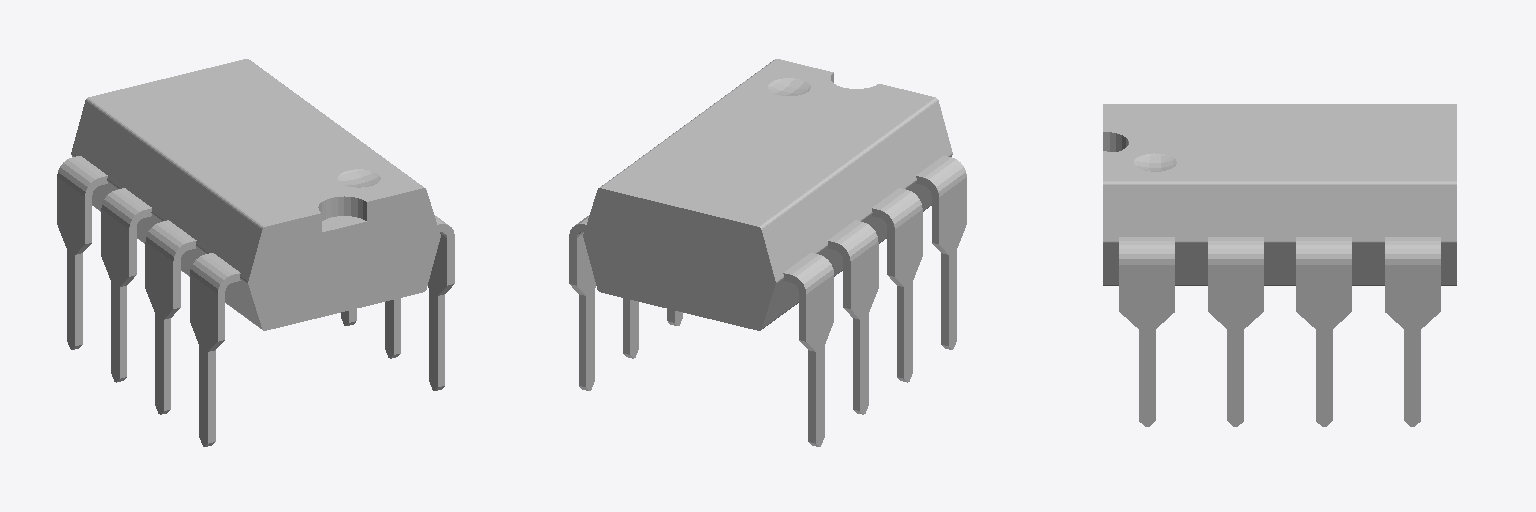
3 views of the same model, side by side, from view 1: azimuth 30°, elevation 25°; view 2: azimuth 150°, elevation 25°; view 3: azimuth 270°, elevation 25° (orthographic).
Parts seen in each view (by area): view 1: Volumenkörper1; view 2: Volumenkörper1; view 3: Volumenkörper1.
Part boxes in pixels (x1,y1,x2,y2): Volumenkörper1: (57,59,454,446); Volumenkörper1: (569,59,966,446); Volumenkörper1: (1103,104,1456,426).
Size of the model in its own units: 7.87 by 7.17 by 10.16.